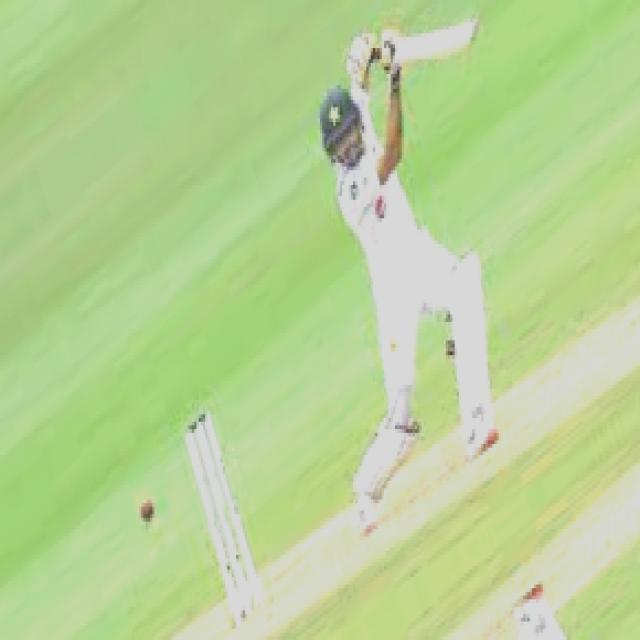toe: (436, 9, 486, 78)
